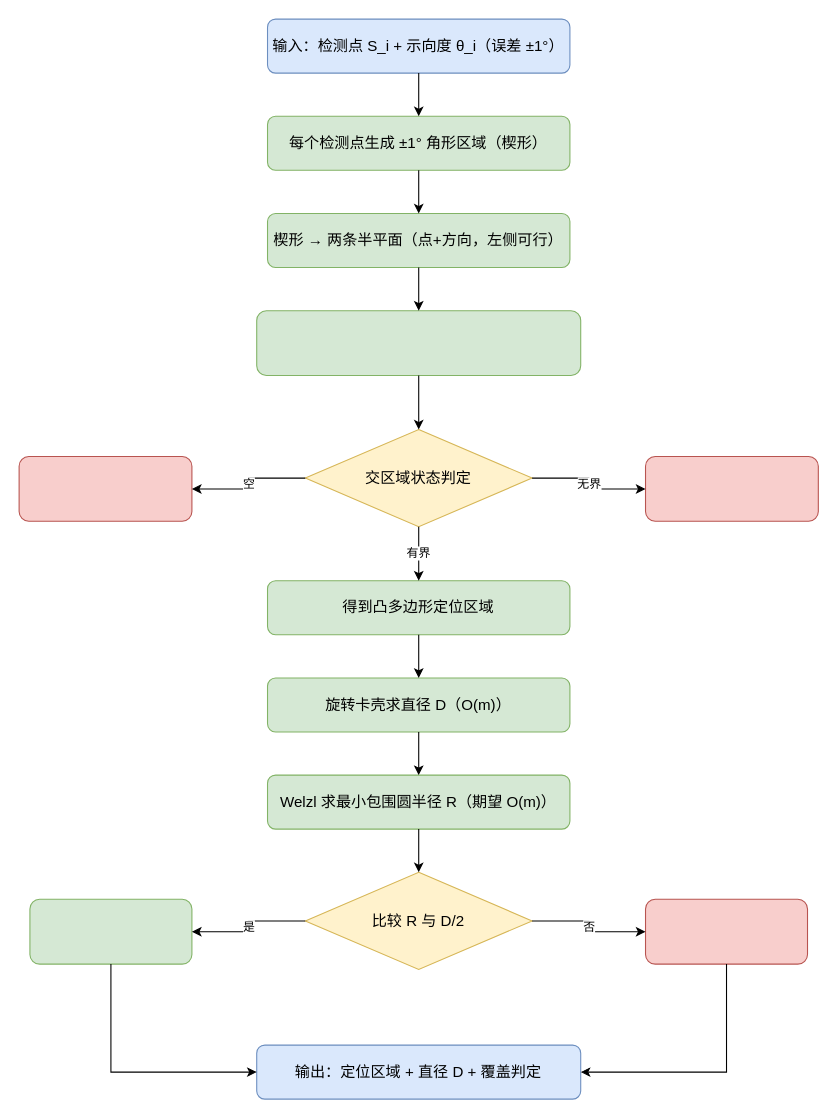
This 837x1118 diagram has some shape labels left out. Here are the shapes that lost their labels. From the top down, the box of each, then its label:
(256, 310, 581, 376): 半平面交：边界线交点枚举求可行顶点 + 凸包 + 衰退锥判定有界性
(18, 455, 192, 521): 输出 empty （数据矛盾）
(644, 455, 818, 521): 输出 unbounded （区域无界）
(29, 898, 192, 964): R ≤ D/2 输出：能覆盖
(644, 898, 808, 964): R > D/2 输出：不能覆盖
